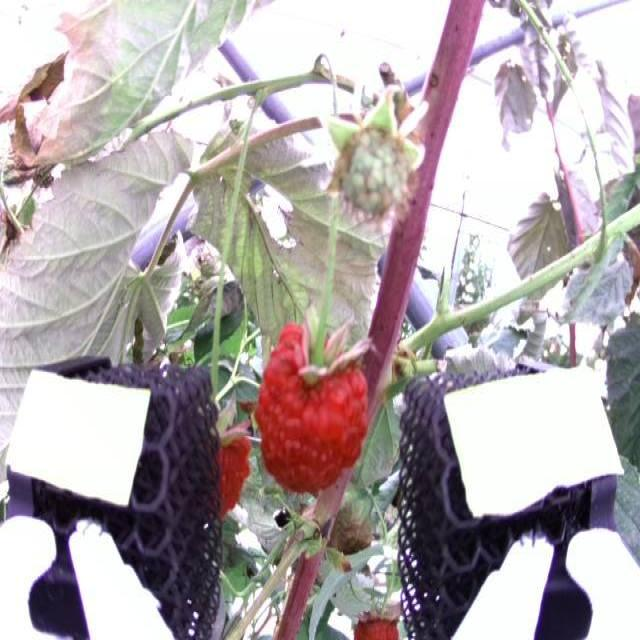Riped berries: (256, 314, 377, 503), (208, 418, 249, 516), (352, 610, 402, 640)
